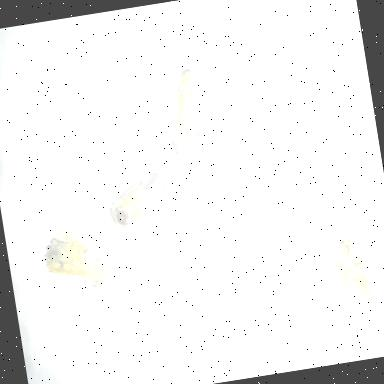abw: (152, 62, 218, 182), (34, 212, 116, 302), (98, 154, 183, 238), (320, 224, 384, 329), (200, 171, 266, 272)
